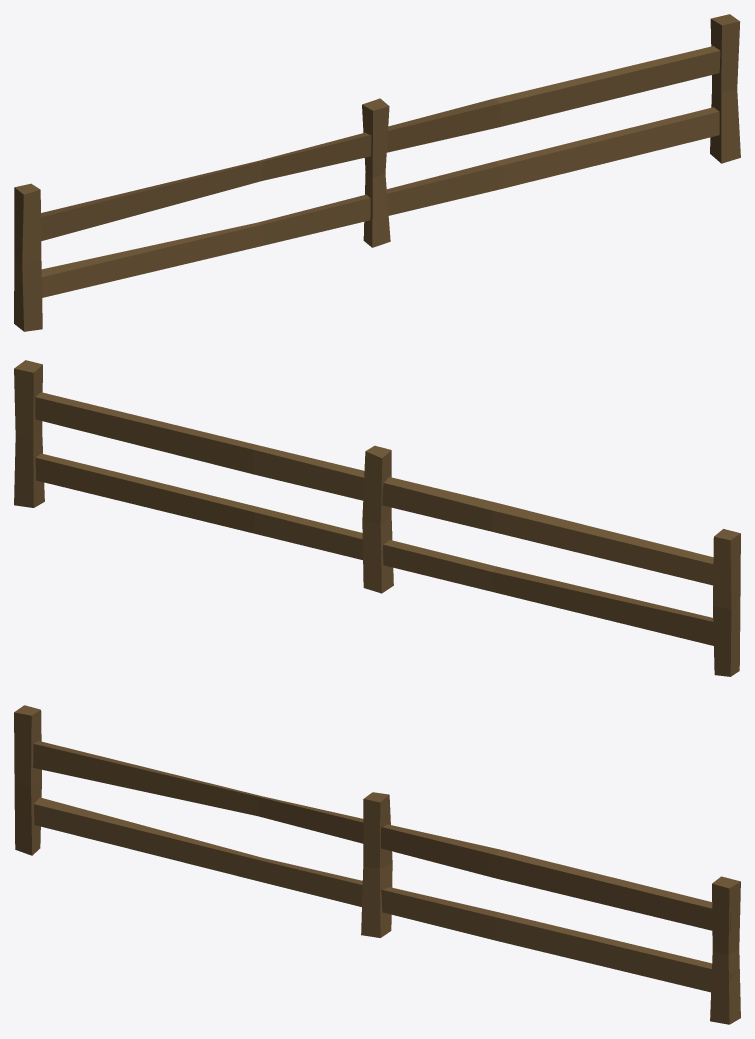
File: Fence.glb
The picture shows the model from 3 angles, top to bottom: view 1: azimuth 30°, elevation 25°; view 2: azimuth 150°, elevation 25°; view 3: azimuth 330°, elevation 25°; orthographic projection.
Visible parts, largest first — view 1: Fence; view 2: Fence; view 3: Fence.
Part boxes in pixels (x1=…): Fence: x1=14, y1=14, x2=740, y2=331; Fence: x1=14, y1=360, x2=740, y2=676; Fence: x1=14, y1=705, x2=740, y2=1024.
Bounding box in the file's own units: 5.88 × 1.09 × 0.1629.
